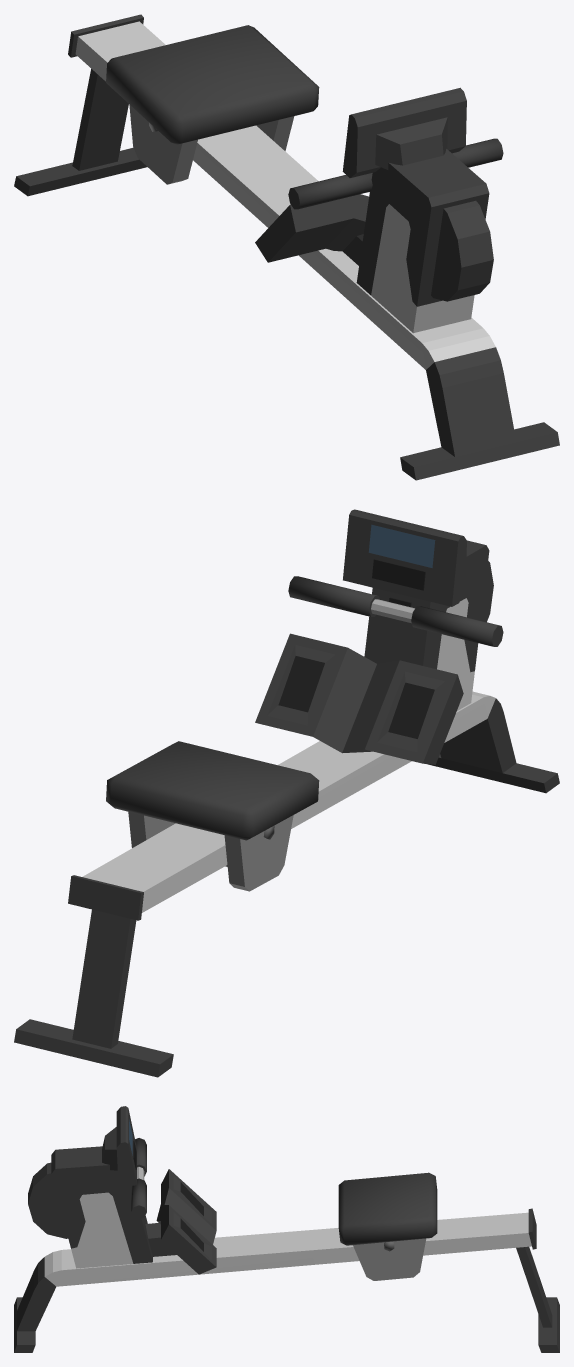
The model's file is rowing_machine.glb.
The picture shows the model from 3 angles, top to bottom: view 1: azimuth 30°, elevation 25°; view 2: azimuth 150°, elevation 25°; view 3: azimuth 270°, elevation 25°; orthographic projection. The views are drawn at different scales.
Parts seen in each view (by area): view 1: Stationary_Rowing_Machine, Stationary_Rowing_Machine_Seat, Stationary_Rowing_Machine_A; view 2: Stationary_Rowing_Machine, Stationary_Rowing_Machine_Seat, Stationary_Rowing_Machine_A; view 3: Stationary_Rowing_Machine, Stationary_Rowing_Machine_Seat, Stationary_Rowing_Machine_A.
Part boxes in pixels (x1=…): Stationary_Rowing_Machine: x1=14, y1=14, x2=559, y2=480; Stationary_Rowing_Machine_Seat: x1=106, y1=25, x2=319, y2=184; Stationary_Rowing_Machine_A: x1=288, y1=138, x2=503, y2=209; Stationary_Rowing_Machine: x1=14, y1=509, x2=559, y2=1077; Stationary_Rowing_Machine_Seat: x1=106, y1=741, x2=319, y2=891; Stationary_Rowing_Machine_A: x1=288, y1=576, x2=503, y2=646; Stationary_Rowing_Machine: x1=14, y1=1106, x2=559, y2=1352; Stationary_Rowing_Machine_Seat: x1=338, y1=1172, x2=437, y2=1280; Stationary_Rowing_Machine_A: x1=131, y1=1138, x2=146, y2=1219.
Size of the model in its own units: 0.6725 by 0.9528 by 2.3.
Materials: 3 (3 with a texture image).
